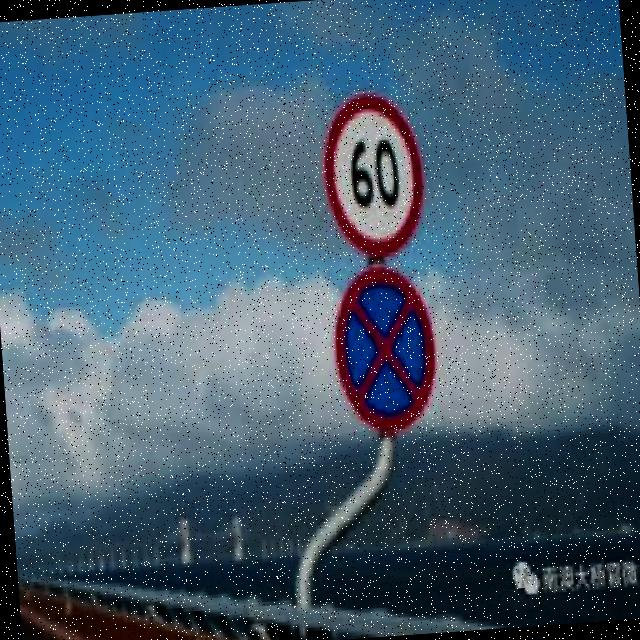Ograniczenie predkosci do 60: (318, 83, 430, 260)
Zakaz zatrzymywania sie: (328, 264, 443, 436)
